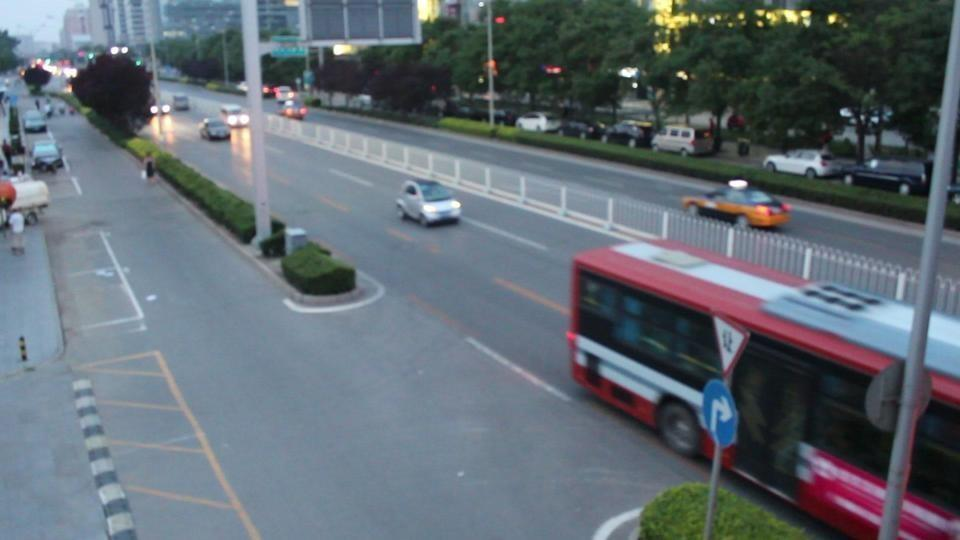car: (680, 180, 793, 230), (395, 180, 464, 228), (843, 158, 930, 195), (762, 149, 852, 182), (0, 175, 51, 222), (651, 126, 715, 157), (602, 122, 653, 148), (29, 138, 62, 173), (515, 112, 560, 134), (554, 119, 595, 139), (200, 117, 231, 141), (277, 99, 308, 120), (220, 106, 249, 126), (23, 111, 48, 133), (171, 94, 190, 112)
